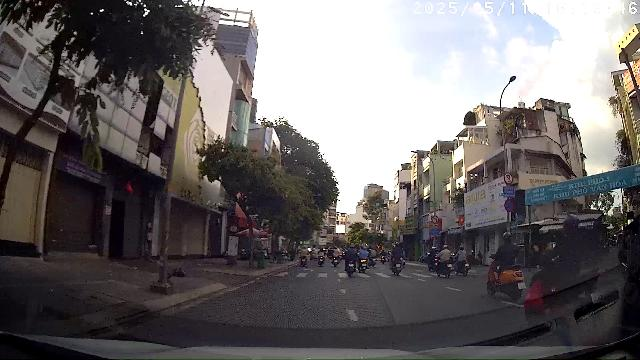103c-cam-oto-re-trai: (503, 172, 514, 185)
123a-cam-re-trai: (432, 215, 439, 224)
